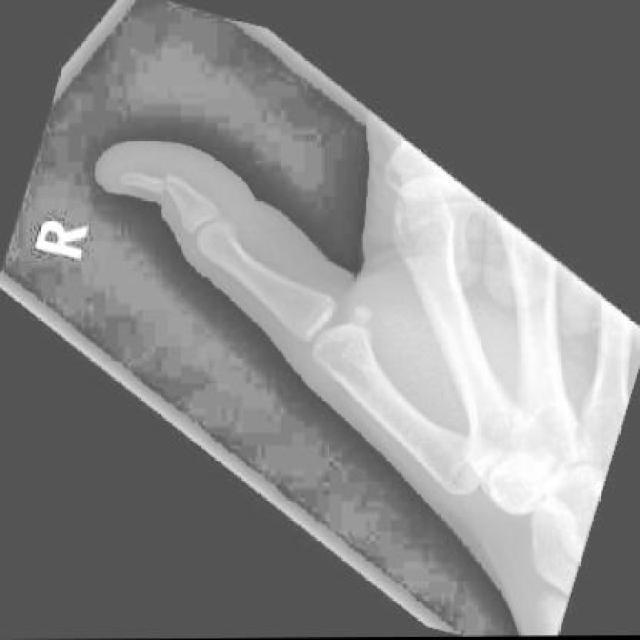Fracture: (152, 169, 183, 199)
